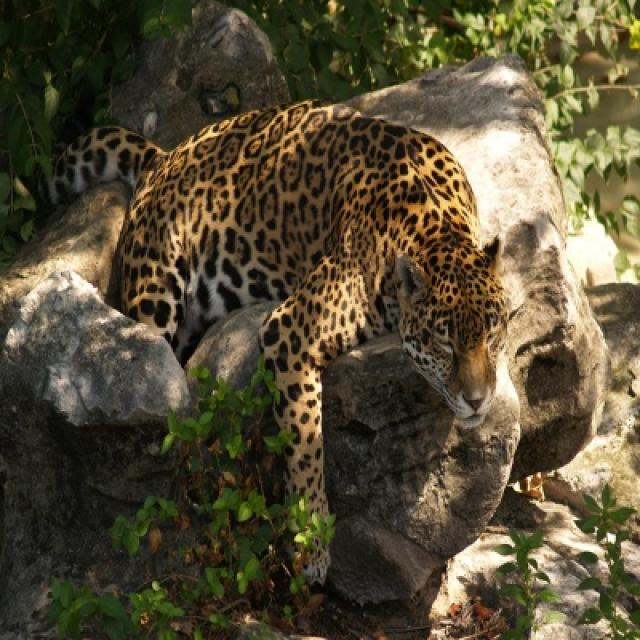Jaguar: (54, 102, 512, 514)
